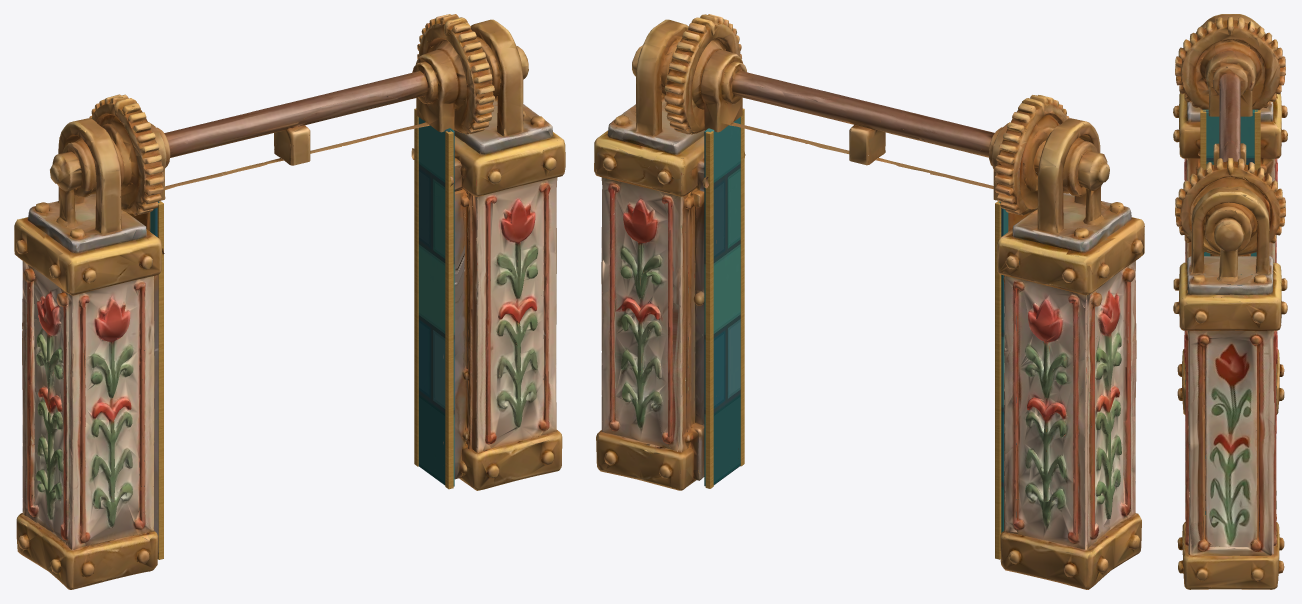
Rendered from act3_wooden_lock_open.glb.
3 views of the same model, side by side, from view 1: azimuth 30°, elevation 25°; view 2: azimuth 150°, elevation 25°; view 3: azimuth 270°, elevation 25° (orthographic). The views are drawn at different scales.
Visible parts, largest first — view 1: model, LockSlotSeal_R, LockSlotRail_R_B, LockSlotRail_L_B, LockSlotRail_R_F; view 2: model, LockSlotSeal_R, LockSlotRail_R_F, LockSlotRail_L_F, LockSlotRail_R_B, LockSlotSeal_L; view 3: model, LockSlotSeal_L, LockSlotRail_L_B, LockSlotRail_L_F.
Part boxes in pixels (x1,y1,x2,y2): model: [14, 14, 565, 589]; LockSlotSeal_R: [418, 117, 454, 486]; LockSlotRail_R_B: [445, 130, 453, 489]; LockSlotRail_L_B: [157, 201, 163, 559]; LockSlotRail_R_F: [414, 108, 418, 466]; model: [594, 14, 1144, 589]; LockSlotSeal_R: [704, 117, 740, 486]; LockSlotRail_R_F: [705, 131, 713, 488]; LockSlotRail_L_F: [995, 201, 1001, 559]; LockSlotRail_R_B: [740, 108, 744, 466]; LockSlotSeal_L: [998, 201, 1026, 532]; model: [1173, 14, 1287, 589]; LockSlotSeal_L: [1203, 109, 1257, 164]; LockSlotRail_L_B: [1200, 110, 1206, 169]; LockSlotRail_L_F: [1254, 110, 1260, 169].
Size of the model in its own units: 1.18 by 1 by 0.263.
Materials: 3 (3 with a texture image).
